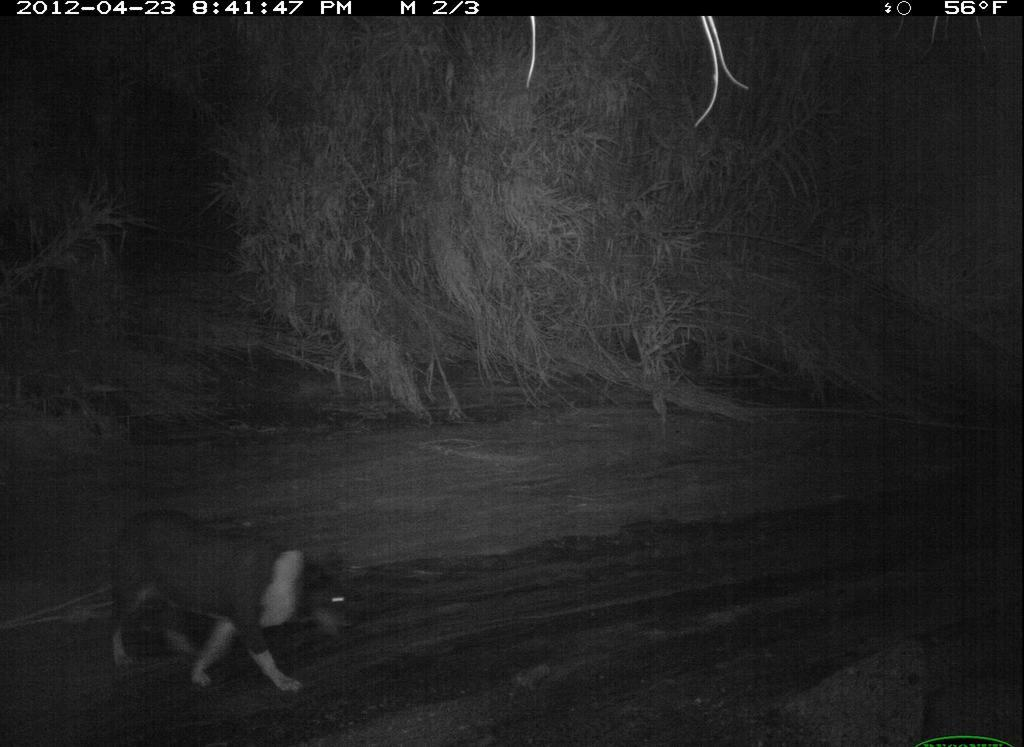dog: (98, 482, 365, 710)
